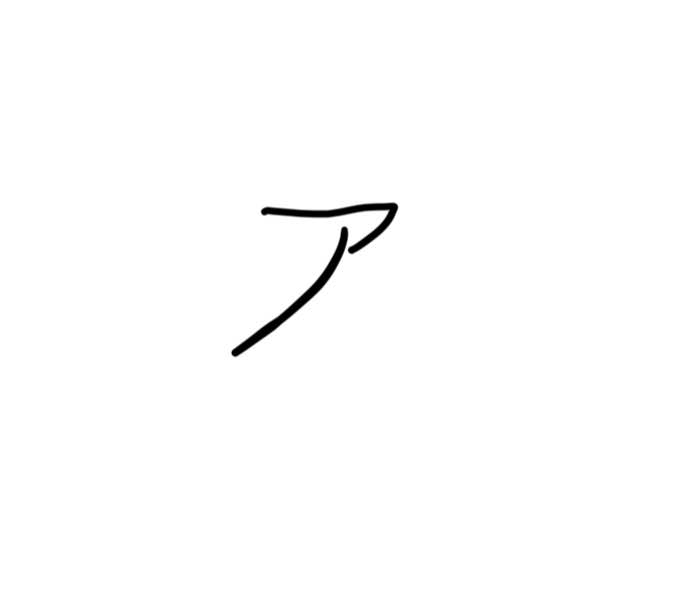a: (214, 195, 408, 372)
